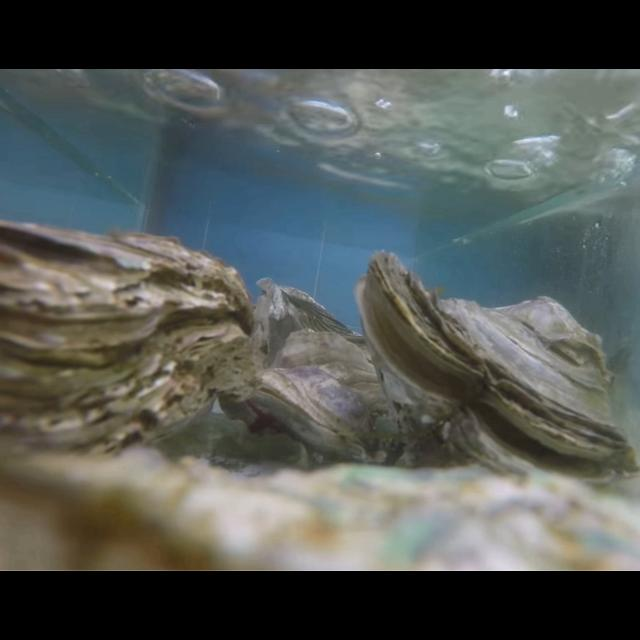Oyster-Closed: (0, 439, 640, 571), (1, 220, 258, 486), (254, 278, 370, 369)
Oyster-Open: (355, 252, 640, 491), (250, 329, 414, 468)
